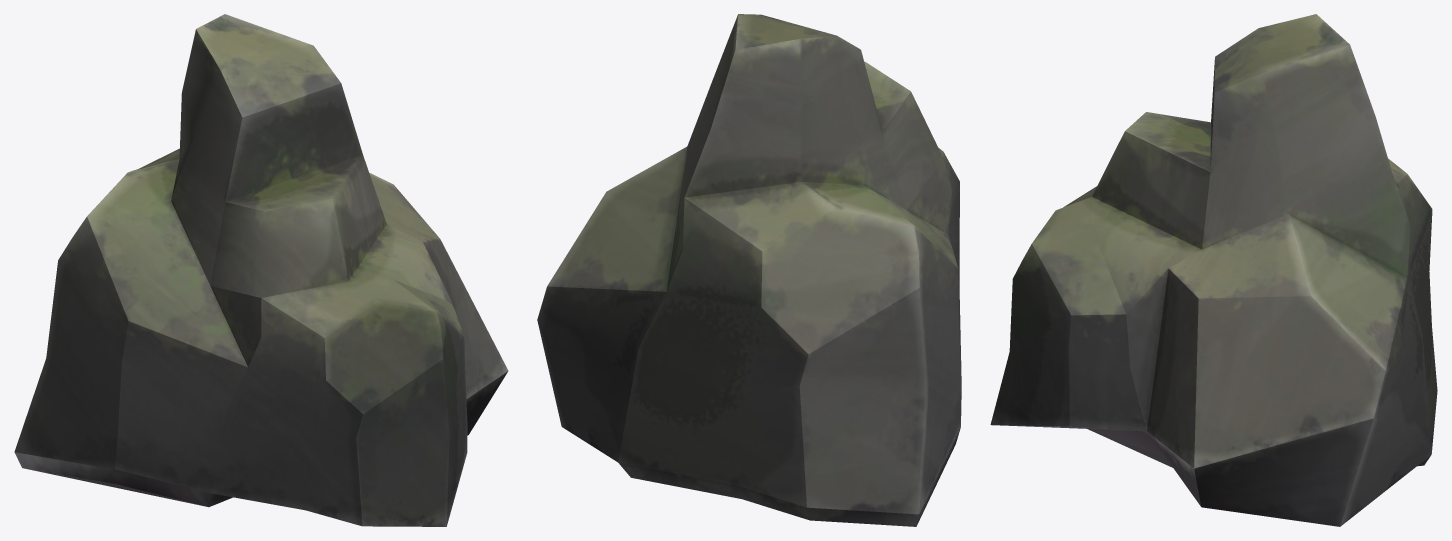
Rendered from Rock_2.gltf.
3 renders of one model, left to right at view 1: azimuth 30°, elevation 25°; view 2: azimuth 150°, elevation 25°; view 3: azimuth 270°, elevation 25°, orthographic. The views are drawn at different scales.
Parts seen in each view (by area): view 1: Rock_2; view 2: Rock_2; view 3: Rock_2.
Boxes of the visible parts, x1,y1,x2,y2 form: Rock_2: [14, 14, 508, 526]; Rock_2: [537, 14, 961, 526]; Rock_2: [990, 14, 1437, 526].
Size of the model in its own units: 1.05 by 1.12 by 1.08.
Materials: 1 (1 with a texture image).
